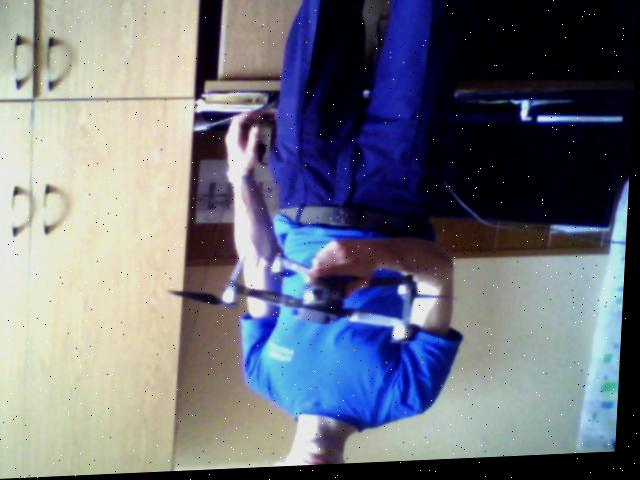drone: (161, 234, 456, 361)
